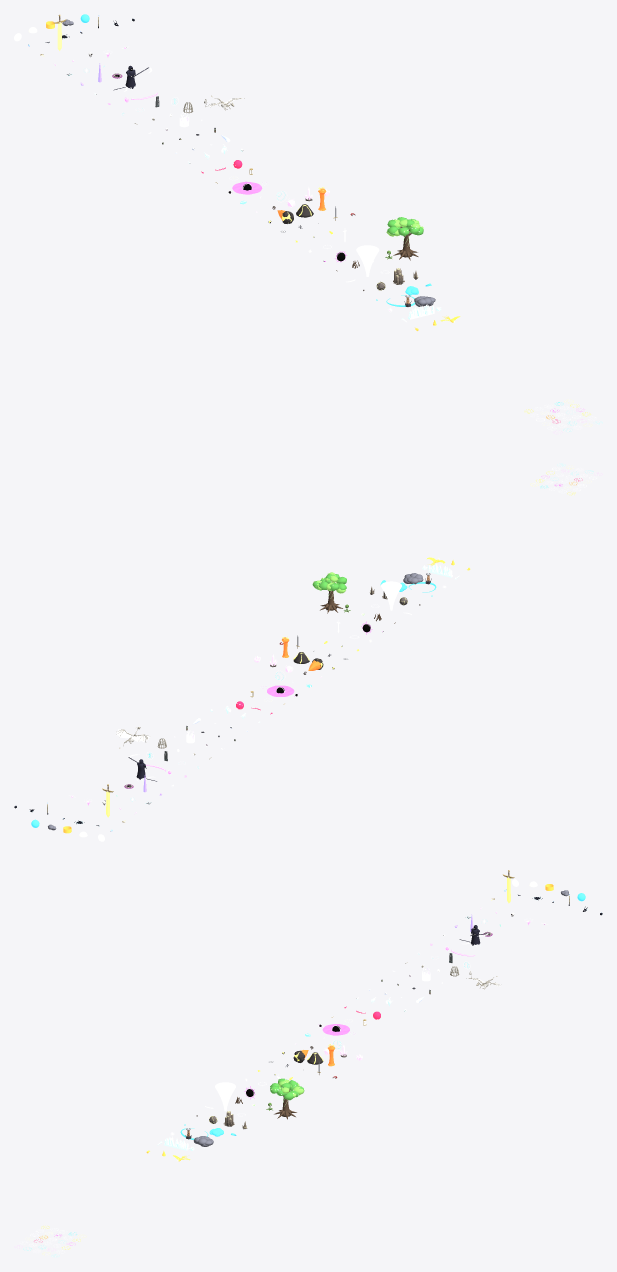
The model's file is elements.glb.
The picture shows the model from 3 angles, top to bottom: view 1: azimuth 30°, elevation 25°; view 2: azimuth 150°, elevation 25°; view 3: azimuth 330°, elevation 25°; orthographic projection. The views are drawn at different scales.
Visible parts, largest first — view 1: nature__tree; view 2: nature__tree; view 3: nature__tree.
Part boxes in pixels (left/top/right/bottom): nature__tree: left=386, top=217, right=423, bottom=260; nature__tree: left=312, top=571, right=346, bottom=613; nature__tree: left=270, top=1077, right=304, bottom=1119.
Size of the model in its own units: 28.69 by 10.81 by 245.
